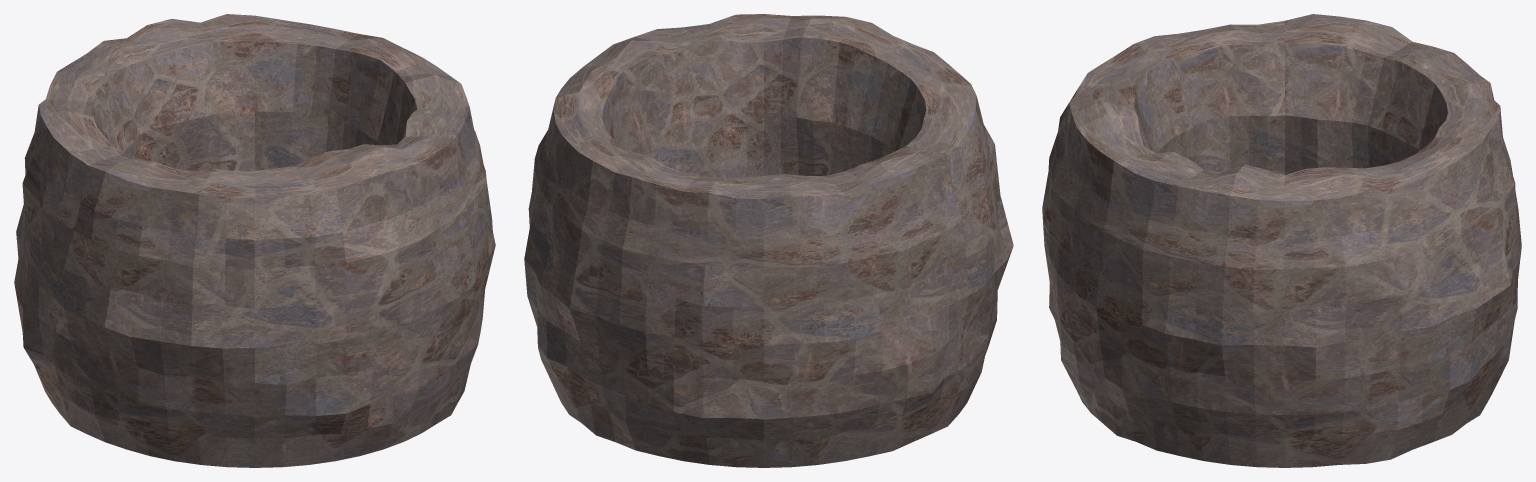
Rendered from Well.fbx.
3 views of the same model, side by side, from view 1: azimuth 30°, elevation 25°; view 2: azimuth 150°, elevation 25°; view 3: azimuth 270°, elevation 25° (orthographic).
Visible parts, largest first — view 1: Well; view 2: Well; view 3: Well.
Boxes of the visible parts, x1=… form: Well: x1=14, y1=14, x2=495, y2=467; Well: x1=524, y1=14, x2=1013, y2=467; Well: x1=1042, y1=14, x2=1521, y2=467.
Size of the model in its own units: 257 by 172 by 257.
